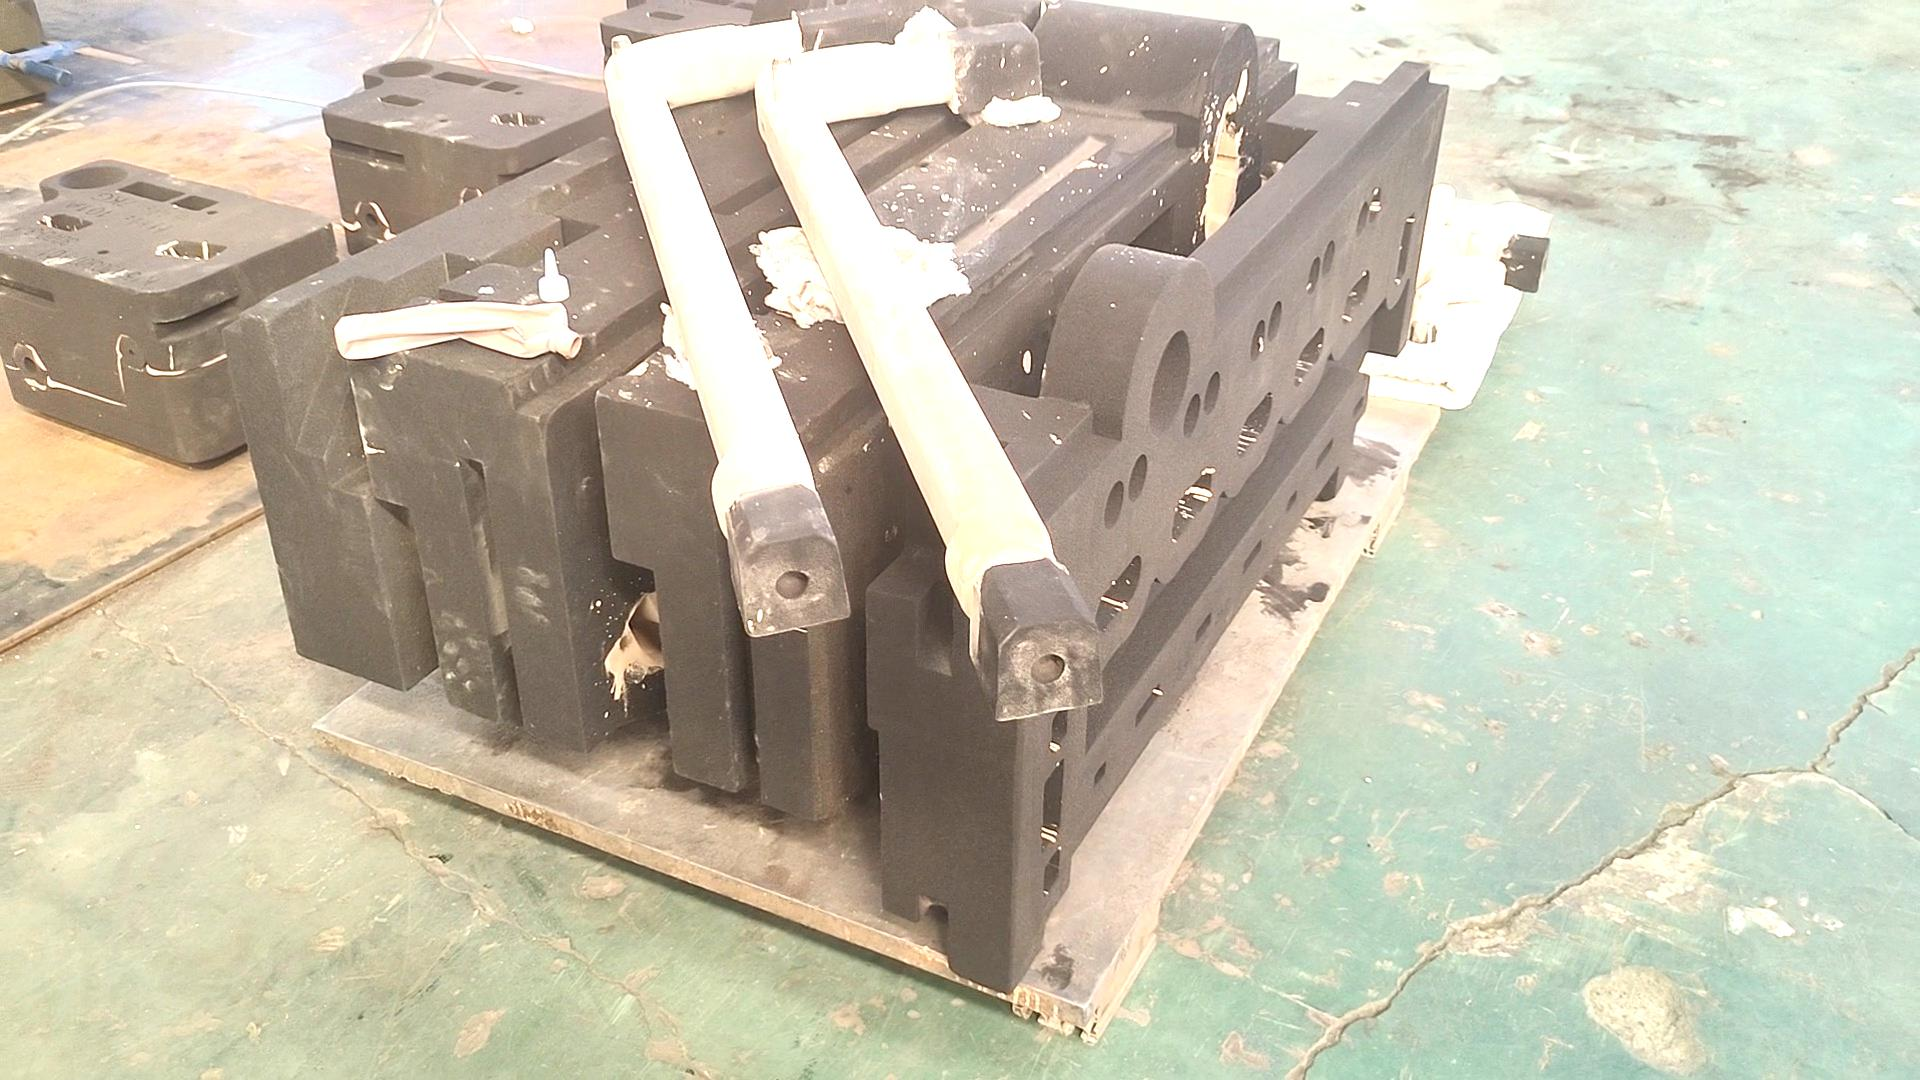pouring hole: (1146, 330, 1192, 434), (55, 164, 129, 189), (376, 59, 435, 79)
